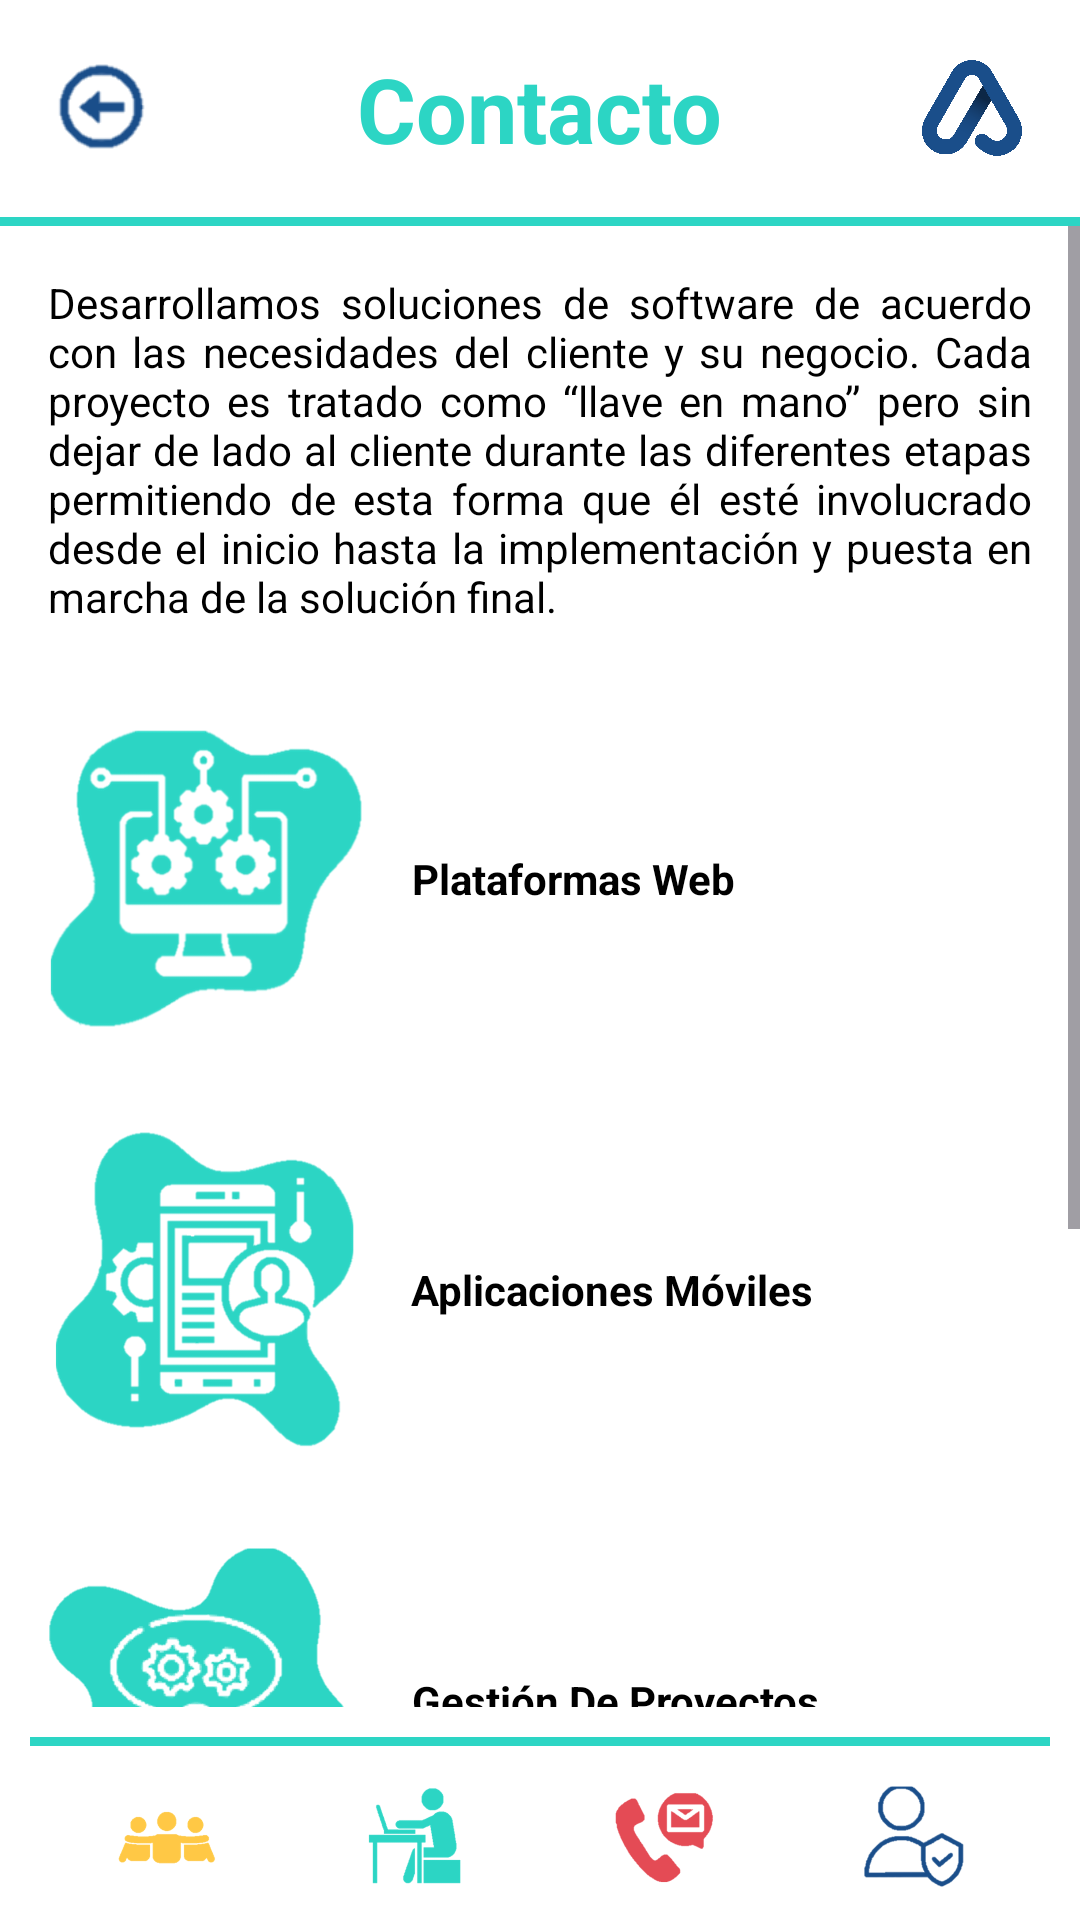

Named icons in this screenshot (1080x1920) and their centers, (x,y):
contacto: (664,1837)
nosotros: (166,1838)
privacidad: (914,1836)
regresar: (101,106)
servicios: (415,1836)
